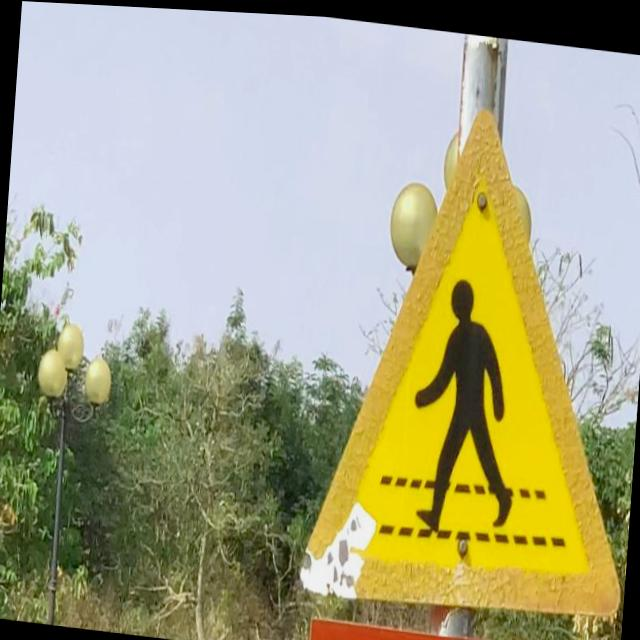Nguoi di bo cat ngang: (287, 61, 640, 640)
